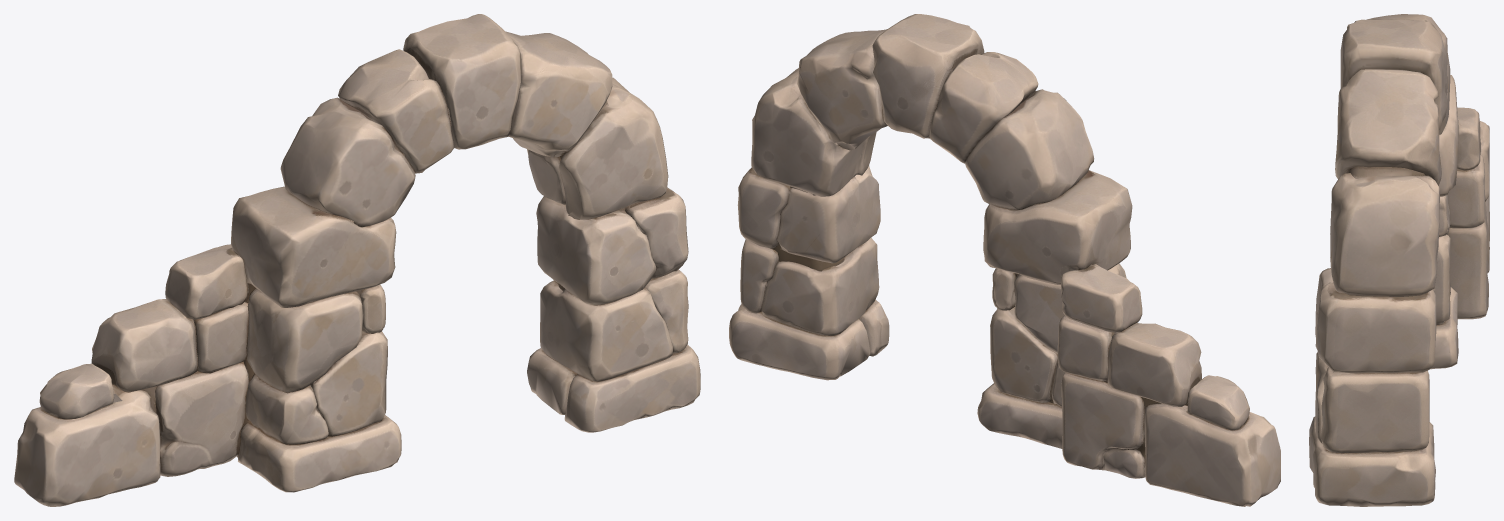
Rendered from ruins.glb.
The picture shows the model from 3 angles, left to right: view 1: azimuth 30°, elevation 25°; view 2: azimuth 150°, elevation 25°; view 3: azimuth 270°, elevation 25°; orthographic projection. The views are drawn at different scales.
Size of the model in its own units: 0.9551 by 0.5874 by 0.251.
Materials: 1 (1 with a texture image).
